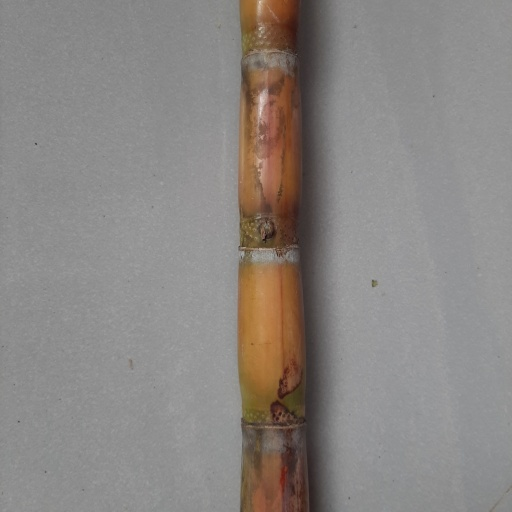Bud: (254, 219, 277, 242)
